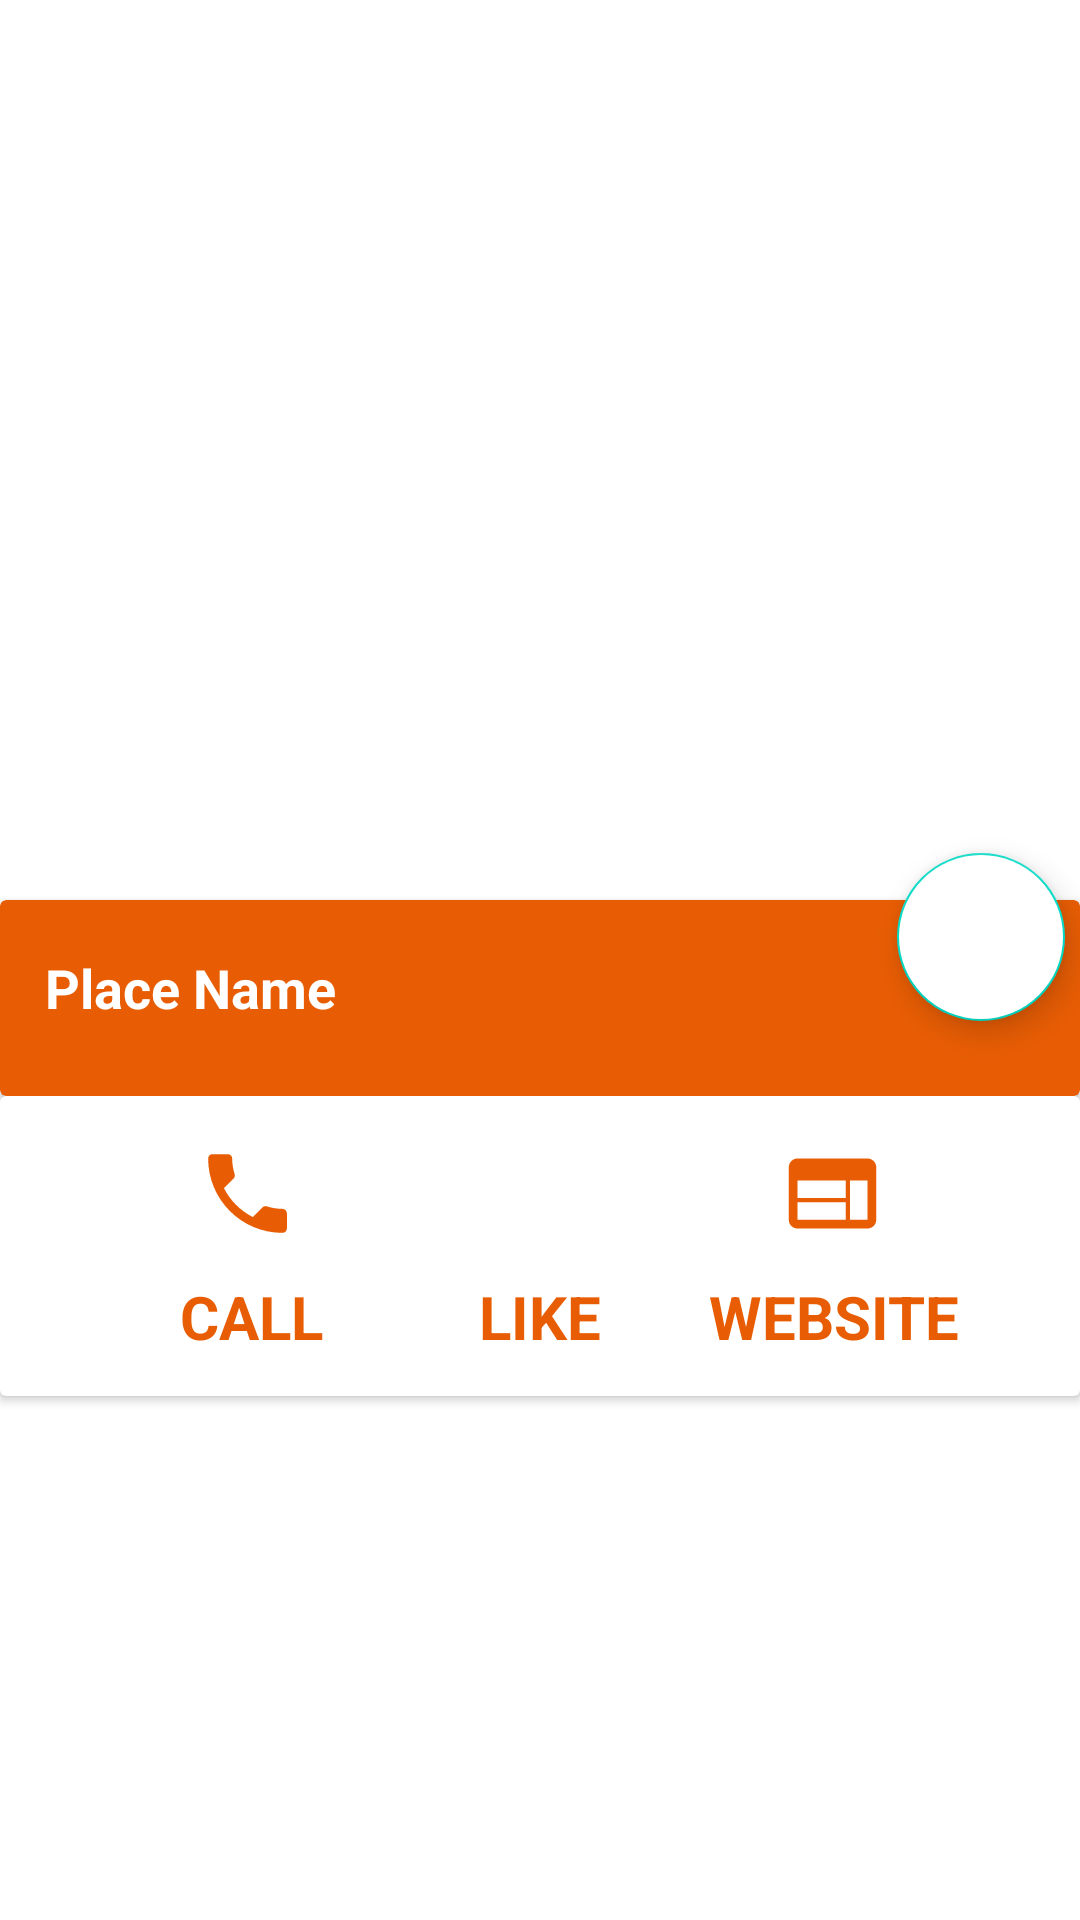

Locate icon controls on the screen. Image size 1080x1920, boxes as (x1=x1, y1=y1, x2=x2, y2=y2).
phone: (x1=208, y1=1154, x2=287, y2=1233)
